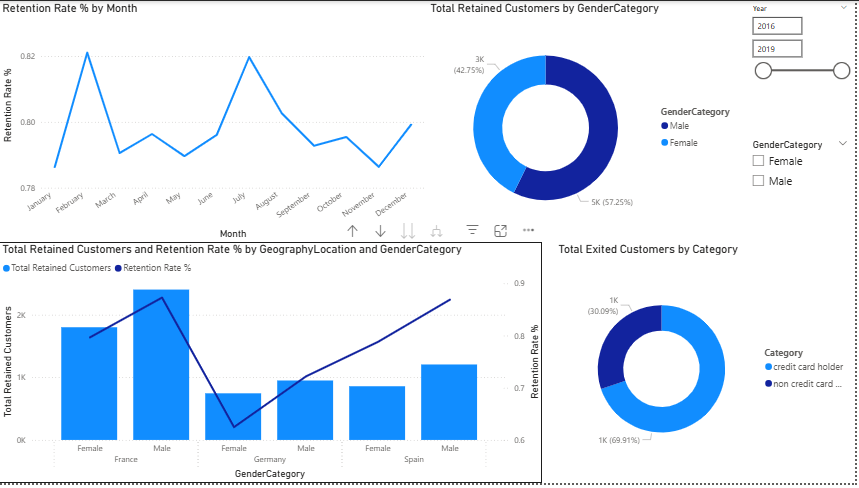

Layout of this report page (visuals, bound fields, positions):
{"tool":"powerbi","page":{"name":"retension analysis","canvas":[1280,720],"ordinal":3},"visuals":[{"type":"lineChart","fields":{"Y":["Bank_Churn.Retention Rate %"],"Category":["datetable.Date.Variation.Date Hierarchy.Month"]},"box":[0,0,640,360],"z":0},{"type":"donutChart","fields":{"Category":["creditcard.Category"],"Y":["Bank_Churn.Total Exited Customers"]},"box":[830,360,450,360],"z":1000},{"type":"donutChart","fields":{"Y":["Bank_Churn.Total Retained Customers"],"Category":["gender.GenderCategory"]},"box":[640,0,473.3,360],"z":2000},{"type":"slicer","fields":{"Values":["datetable.Date.Variation.Date Hierarchy.Year"]},"box":[1113.3,0,166.7,143.3],"z":3000},{"type":"slicer","fields":{"Values":["gender.GenderCategory"]},"box":[1113.3,201.7,166.7,91.7],"z":4000},{"type":"lineClusteredColumnComboChart","fields":{"Y":["Bank_Churn.Total Retained Customers"],"Category":["geography.GeographyLocation","gender.GenderCategory"],"Y2":["Bank_Churn.Retention Rate %"]},"box":[0,360,811.7,360],"z":5000}]}

Visuals, with their boxes in screenshot pixels (x1, y1, x2, y2), scaled from the page's 1280x720 canvas onto the 859x488 screenshot:
lineChart - Bank_Churn.Retention Rate % x datetable.Date.Variation.Date Hierarchy.Month: <bbox>0, 0, 430, 244</bbox>
donutChart - creditcard.Category x Bank_Churn.Total Exited Customers: <bbox>557, 244, 858, 487</bbox>
donutChart - Bank_Churn.Total Retained Customers x gender.GenderCategory: <bbox>430, 0, 747, 244</bbox>
slicer - datetable.Date.Variation.Date Hierarchy.Year: <bbox>747, 0, 858, 97</bbox>
slicer - gender.GenderCategory: <bbox>747, 137, 858, 199</bbox>
lineClusteredColumnComboChart - Bank_Churn.Total Retained Customers x geography.GeographyLocation: <bbox>0, 244, 545, 487</bbox>
